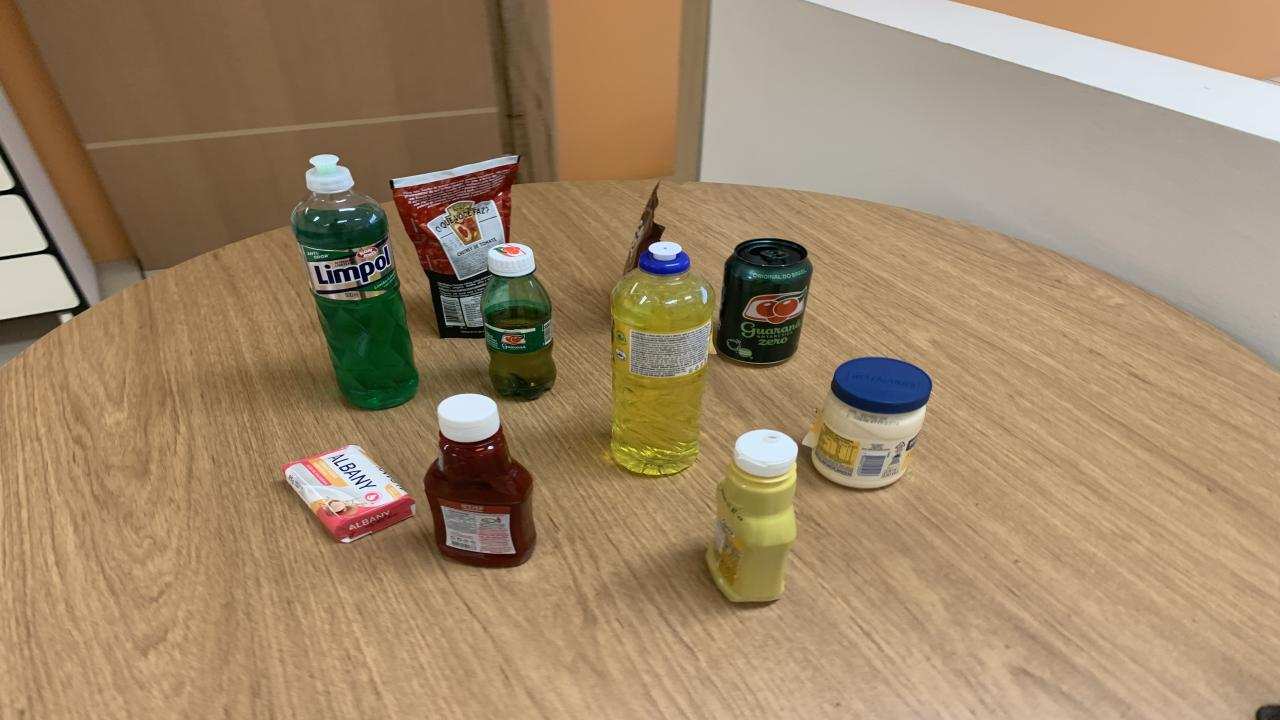Coffee-Pantry_Items: (622, 186, 665, 274)
Detergent-Cleanup_Items: (290, 156, 418, 409), (610, 242, 715, 474)
Guarana-Drinks: (480, 244, 555, 399)
Guarana_Can-Drinks: (715, 238, 812, 366), (900, 414, 905, 418)
Ketchup-Pantry_Items: (425, 394, 535, 566)
Mayonnaise-Pantry_Items: (805, 356, 932, 488)
Mustard-Pantry_Items: (705, 429, 798, 602)
Soap-Cleanup_Items: (282, 444, 415, 542)
Tomato_Sauce-Pantry_Items: (390, 156, 520, 338)
